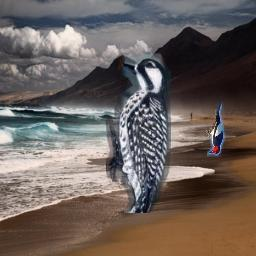Woodpecker: (106, 52, 171, 213), (206, 102, 226, 157)
